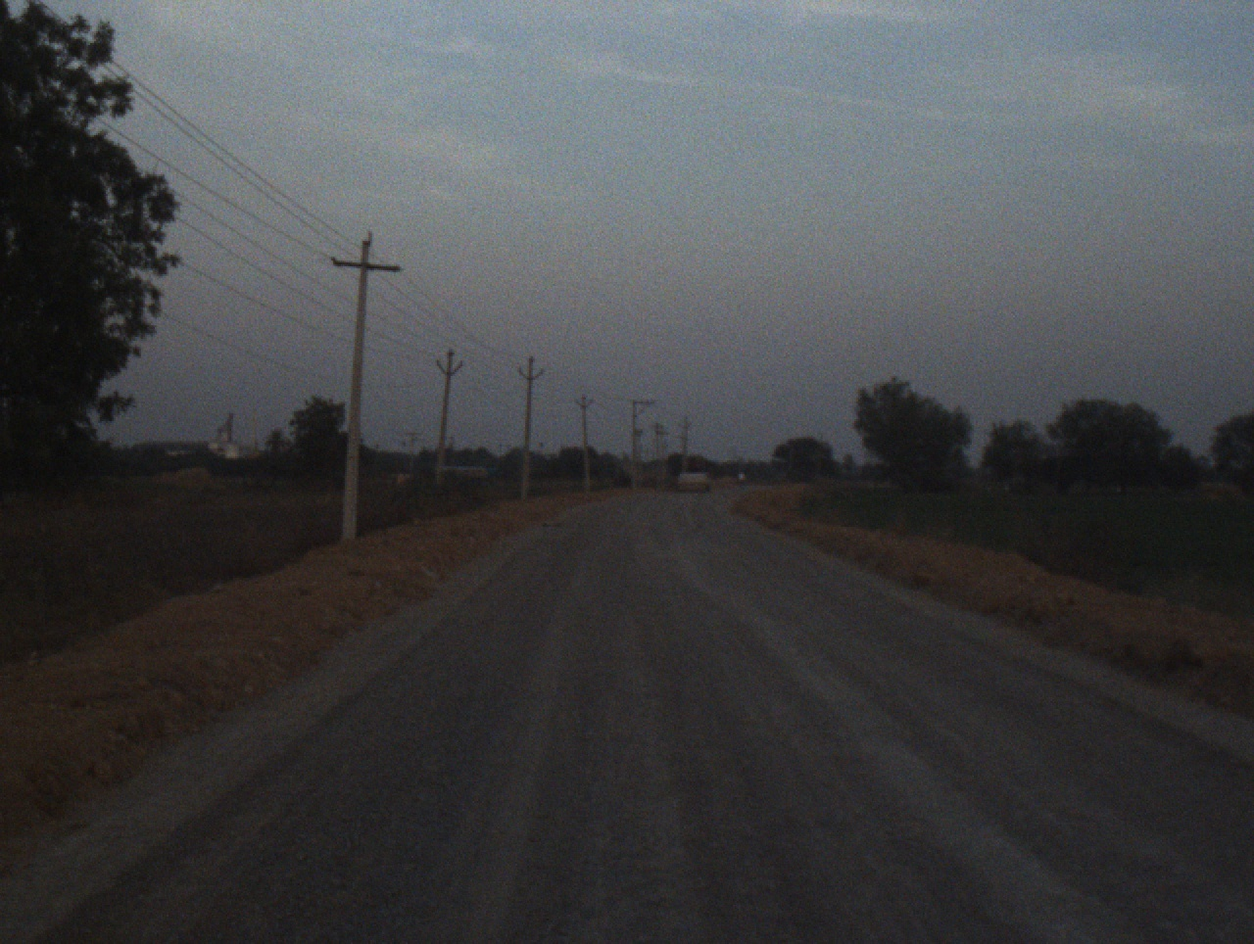vehicle fallback: (674, 452, 717, 494)
